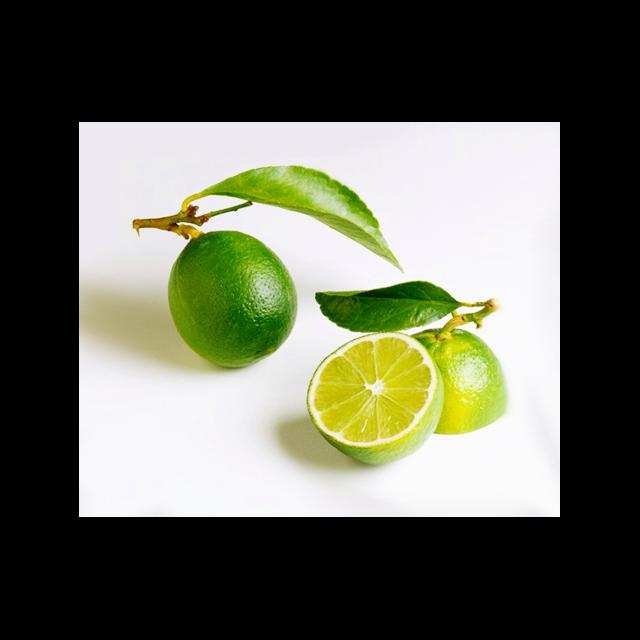lime: (164, 227, 303, 372)
